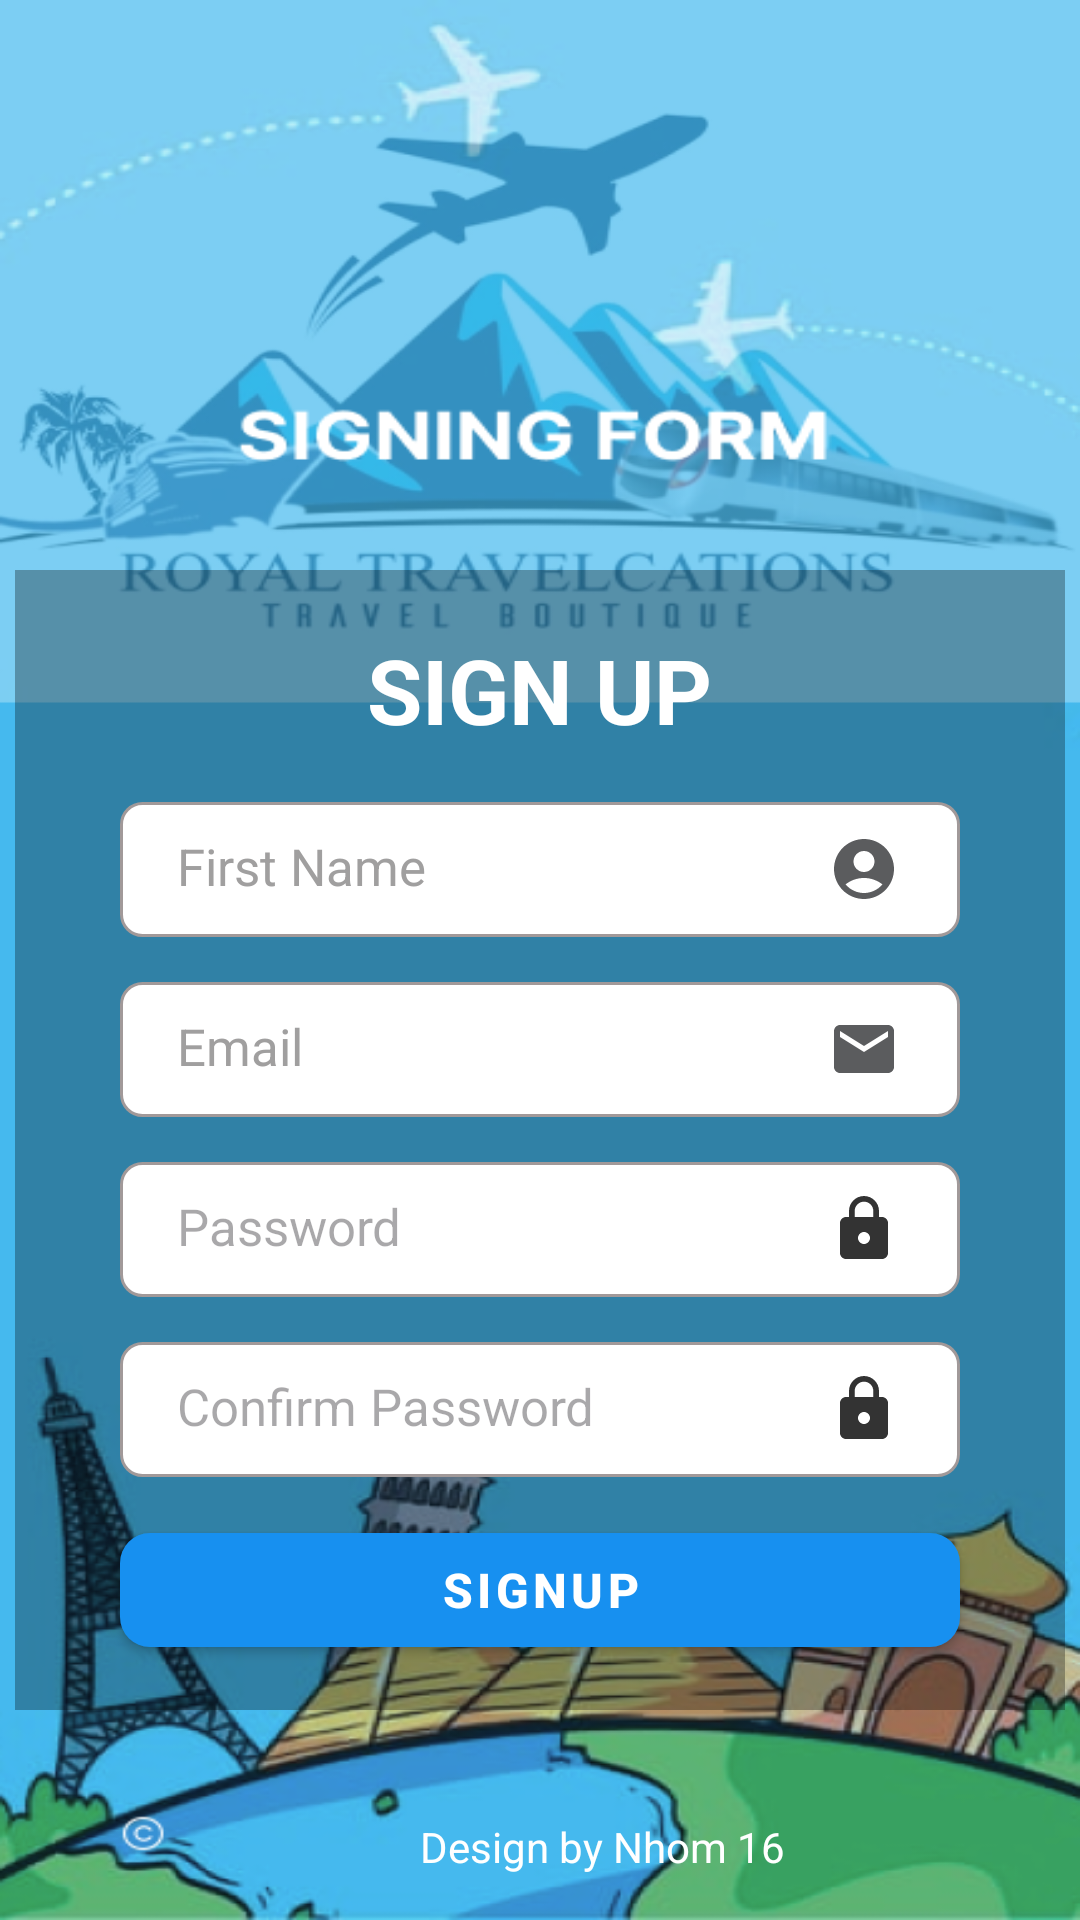

Where to tap for icons on this 1080×1920 app screen, as (x,y):
account circle: (864,869)
email: (864,1049)
lock: (864,1227), (864,1407)
